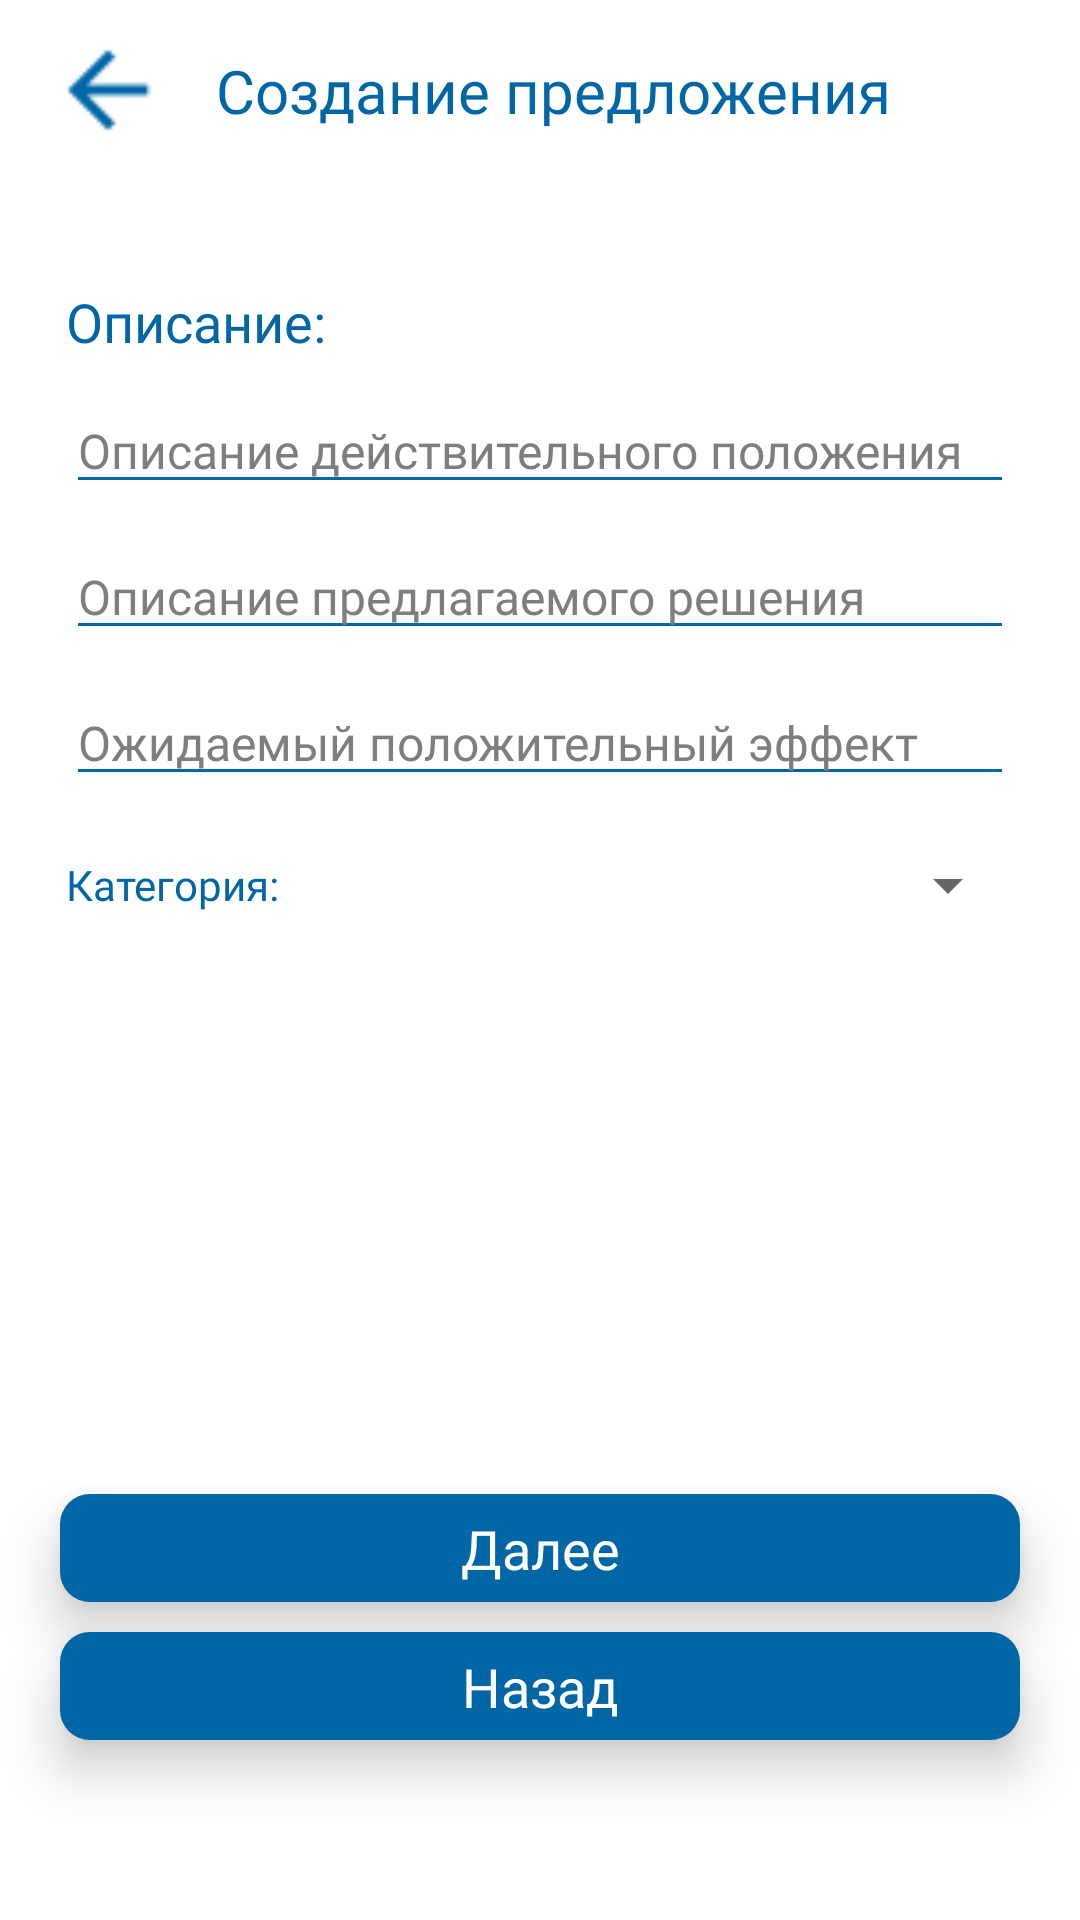

Named icons in this screenshot (1080 × 1920) and their bounding boxes, (x1, y1, x2, y2):
arrow back: (68, 50, 151, 130)
